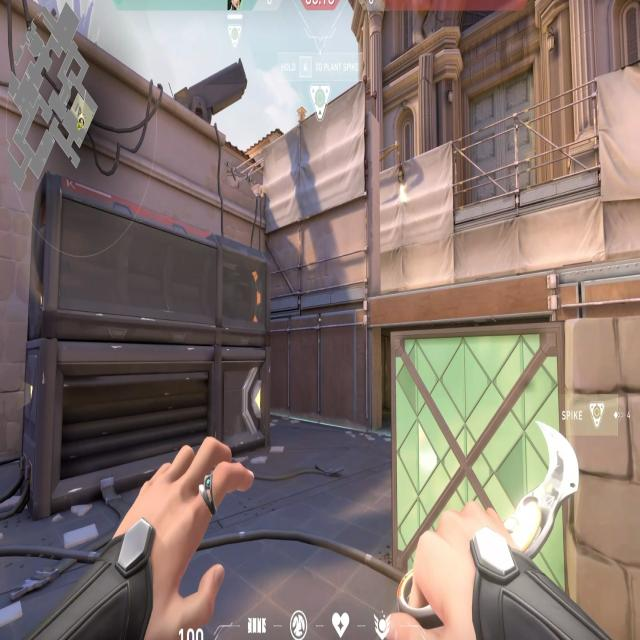A_Heaven_Wall: (261, 76, 381, 315)
A_Site_Box: (382, 314, 640, 640)
